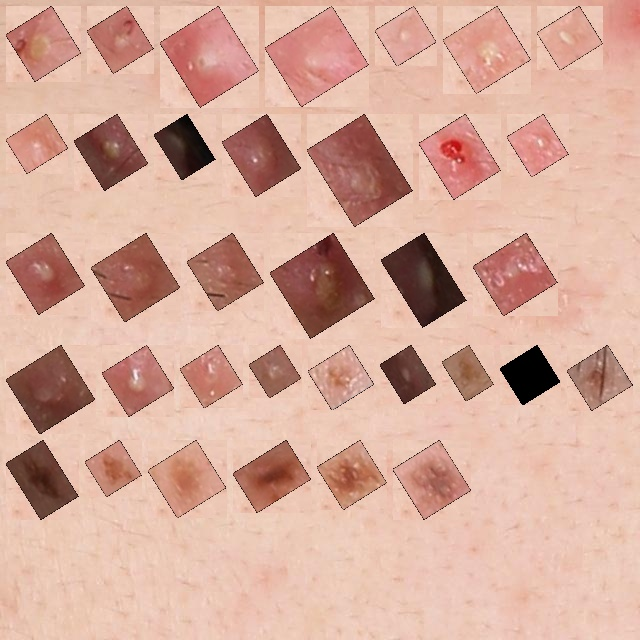melasma: (404, 451, 460, 508)
nevus: (159, 451, 215, 507), (17, 451, 67, 508), (319, 356, 363, 399), (578, 356, 622, 399), (511, 356, 549, 394), (96, 451, 130, 485), (453, 356, 482, 390)
pustule: (318, 125, 401, 215), (281, 244, 363, 327), (276, 17, 358, 95), (171, 17, 248, 96), (392, 244, 455, 316), (102, 244, 169, 311), (17, 356, 84, 423), (454, 17, 520, 82), (484, 244, 546, 305), (430, 125, 490, 188), (233, 125, 290, 185), (17, 244, 74, 303), (198, 244, 253, 300), (17, 17, 70, 70), (85, 125, 137, 179), (113, 356, 163, 405), (98, 17, 142, 62), (548, 17, 592, 59), (165, 125, 204, 169), (191, 356, 232, 397), (518, 125, 557, 166), (386, 17, 425, 55), (17, 125, 57, 162), (391, 356, 425, 393), (260, 356, 290, 387)
